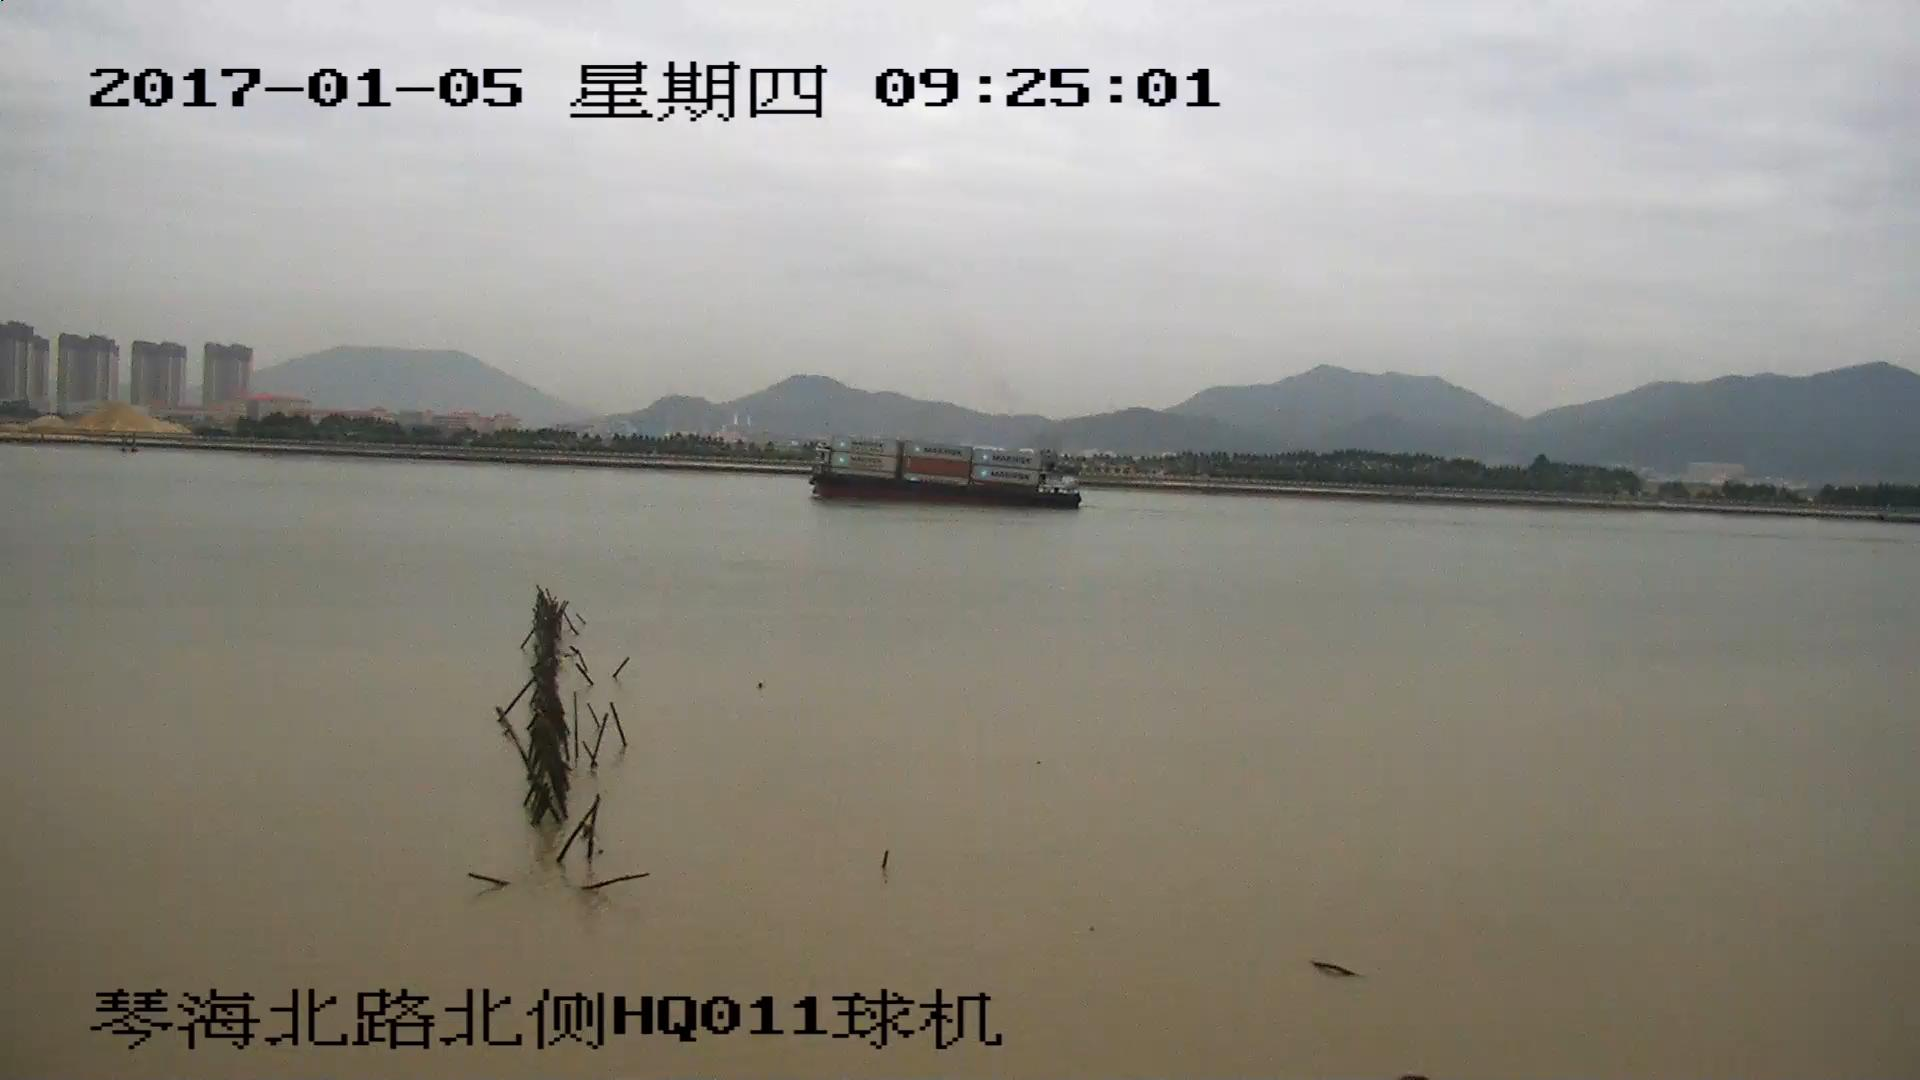container ship: (801, 436, 1082, 508)
